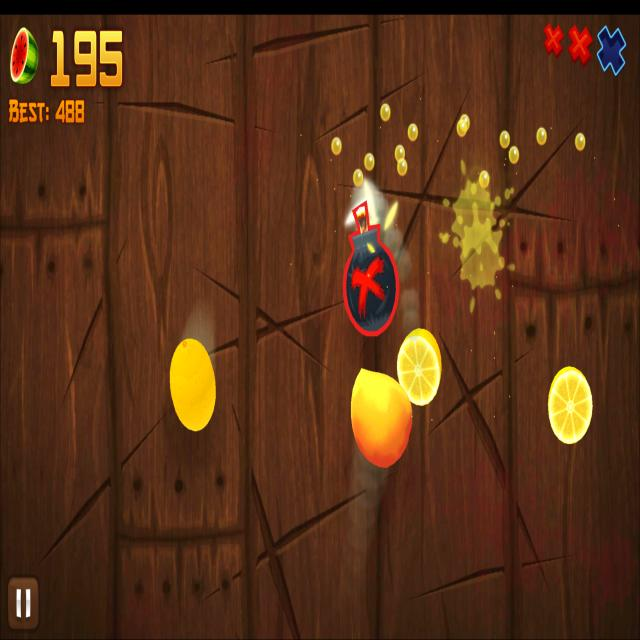bomb: (342, 200, 400, 337)
fruit: (351, 369, 412, 466), (170, 339, 215, 432)
